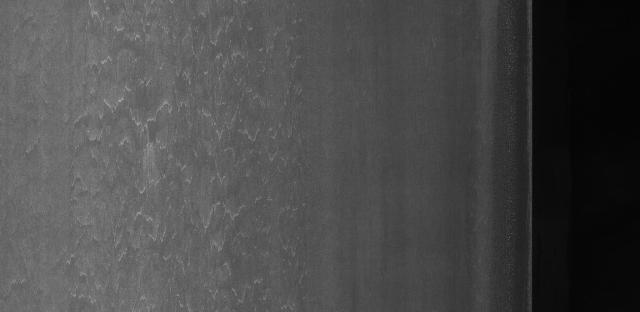silk_spot: (35, 148, 273, 281), (57, 72, 262, 169), (81, 1, 242, 83)
